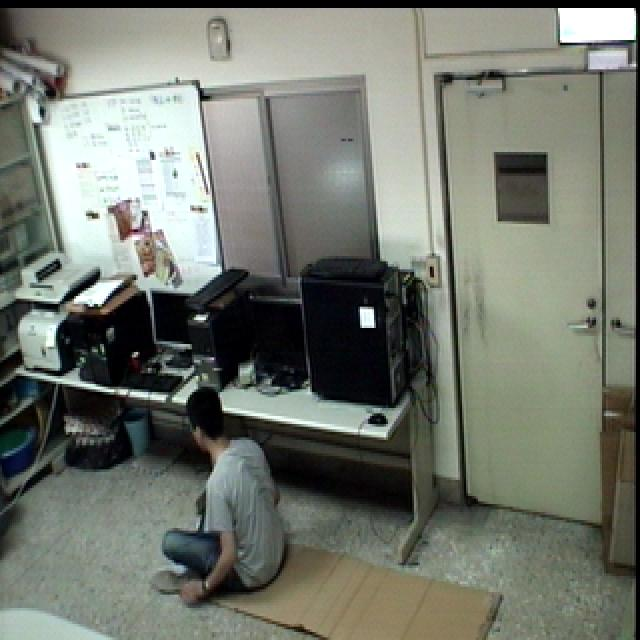sit: (144, 378, 290, 611)
